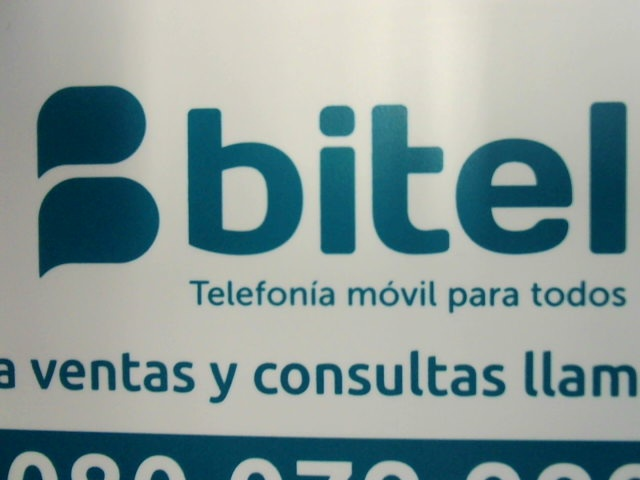BE_bitel: (31, 81, 630, 278)
